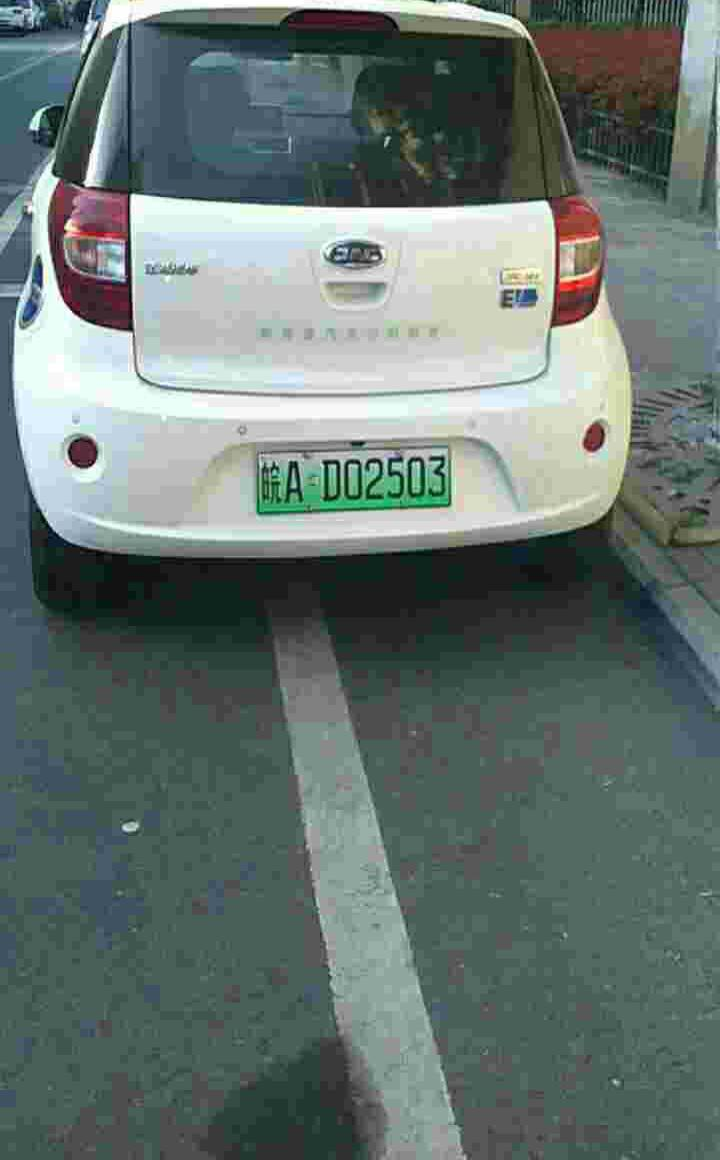car: (249, 447, 458, 511)
